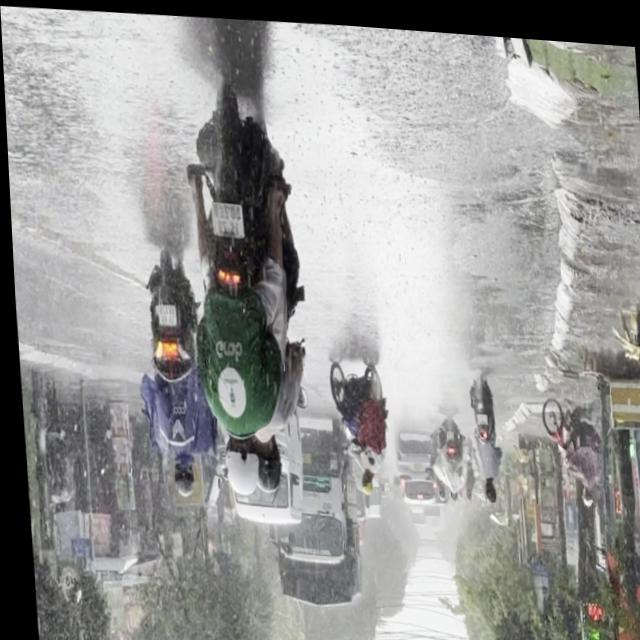helmet: (217, 431, 255, 496), (248, 435, 277, 492), (165, 458, 190, 496)
licenseplate: (167, 70, 313, 503), (127, 243, 205, 500)
nohelmet: (209, 200, 241, 235), (154, 303, 172, 325)
